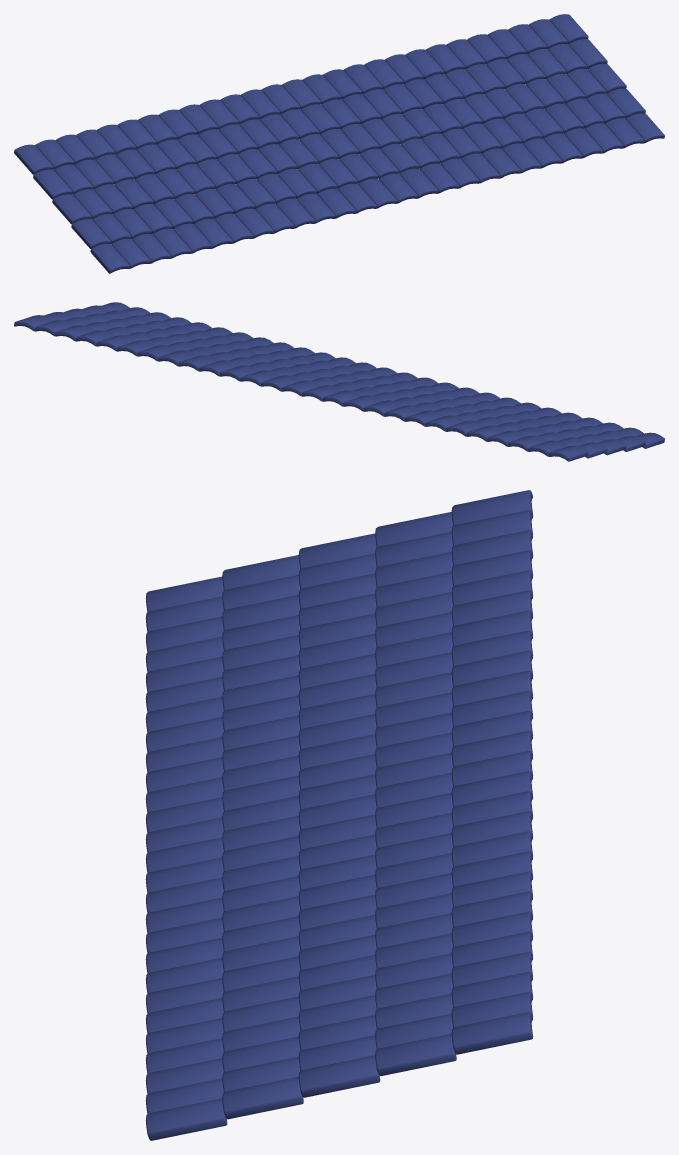
The model's file is FruitSensei_Roof1.fbx.
3 views of the same model, one above another, from view 1: azimuth 30°, elevation 25°; view 2: azimuth 150°, elevation 25°; view 3: azimuth 270°, elevation 25° (orthographic). The views are drawn at different scales.
Parts seen in each view (by area): view 1: Roof.002; view 2: Roof.002; view 3: Roof.002.
Boxes of the visible parts, x1=… form: Roof.002: x1=14, y1=14, x2=664, y2=273; Roof.002: x1=14, y1=302, x2=664, y2=461; Roof.002: x1=145, y1=490, x2=533, y2=1140.
Bounding box in the file's own units: 762 × 75.04 × 230.
